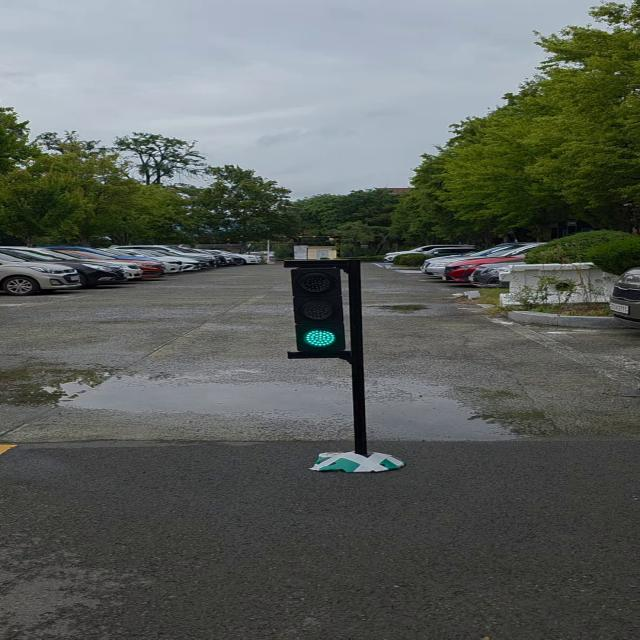green: (289, 262, 352, 358)
